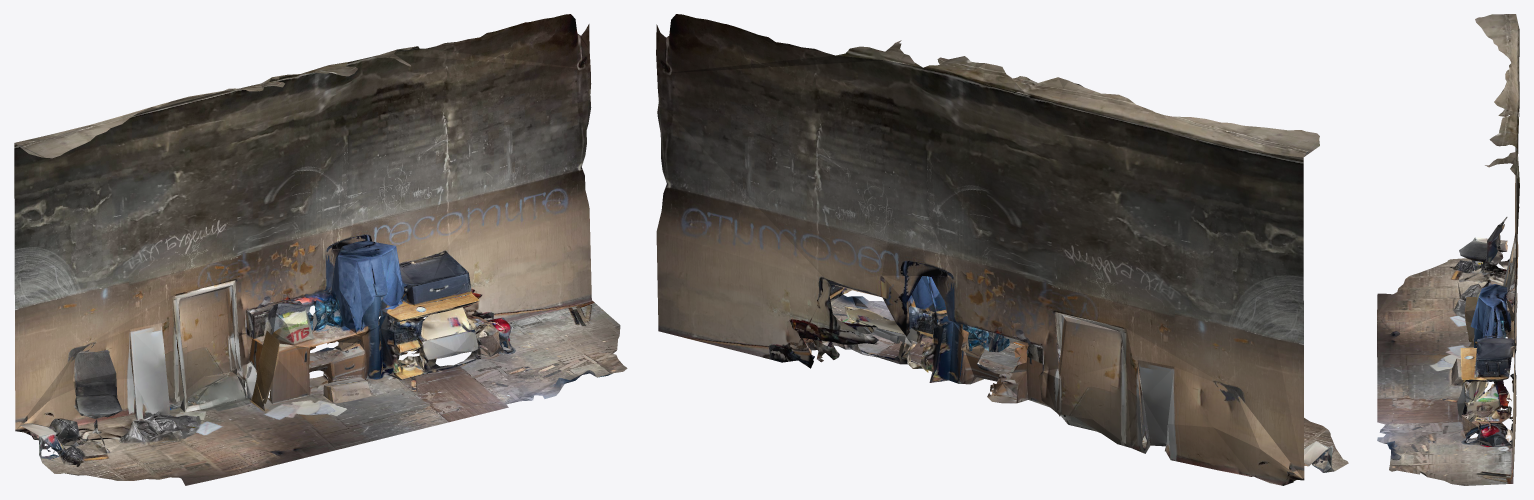
The model's file is winery_corner.glb.
3 renders of one model, left to right at view 1: azimuth 30°, elevation 25°; view 2: azimuth 150°, elevation 25°; view 3: azimuth 270°, elevation 25°, orthographic. The views are drawn at different scales.
Visible parts, largest first — view 1: winery_corner; view 2: winery_corner; view 3: winery_corner.
Part boxes in pixels (x1,y1,x2,y2): winery_corner: (14, 14, 627, 485); winery_corner: (656, 14, 1348, 485); winery_corner: (1377, 14, 1519, 485).
Size of the model in its own units: 7.1 by 3.69 by 1.87.
Materials: 1 (1 with a texture image).
